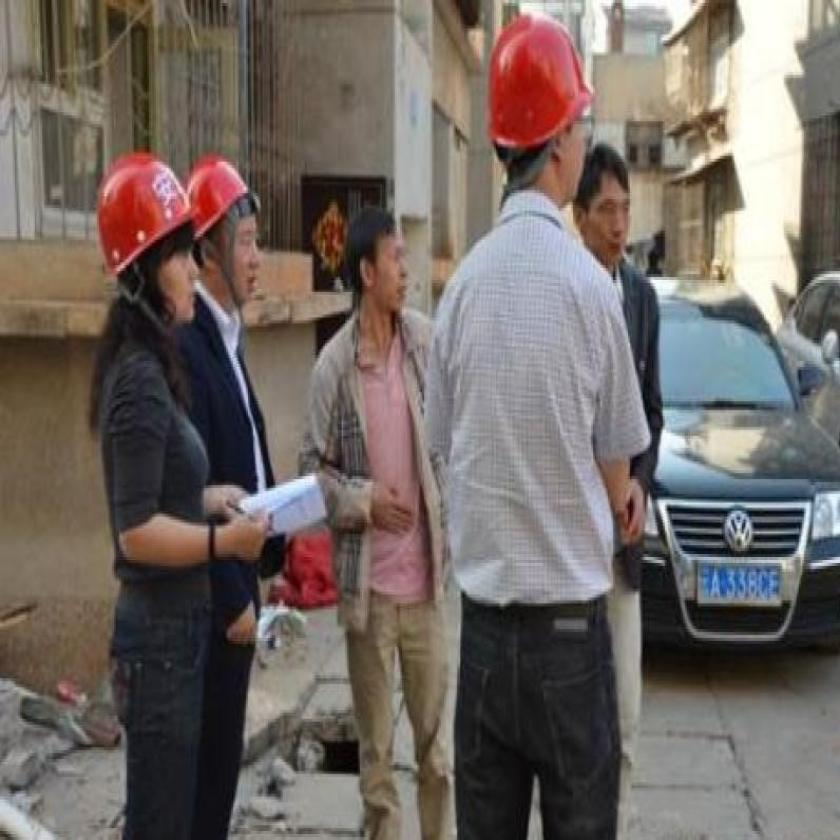Con_casco: (91, 143, 208, 337), (183, 145, 270, 315)
Sin_casco: (345, 202, 412, 323), (574, 140, 632, 268)
